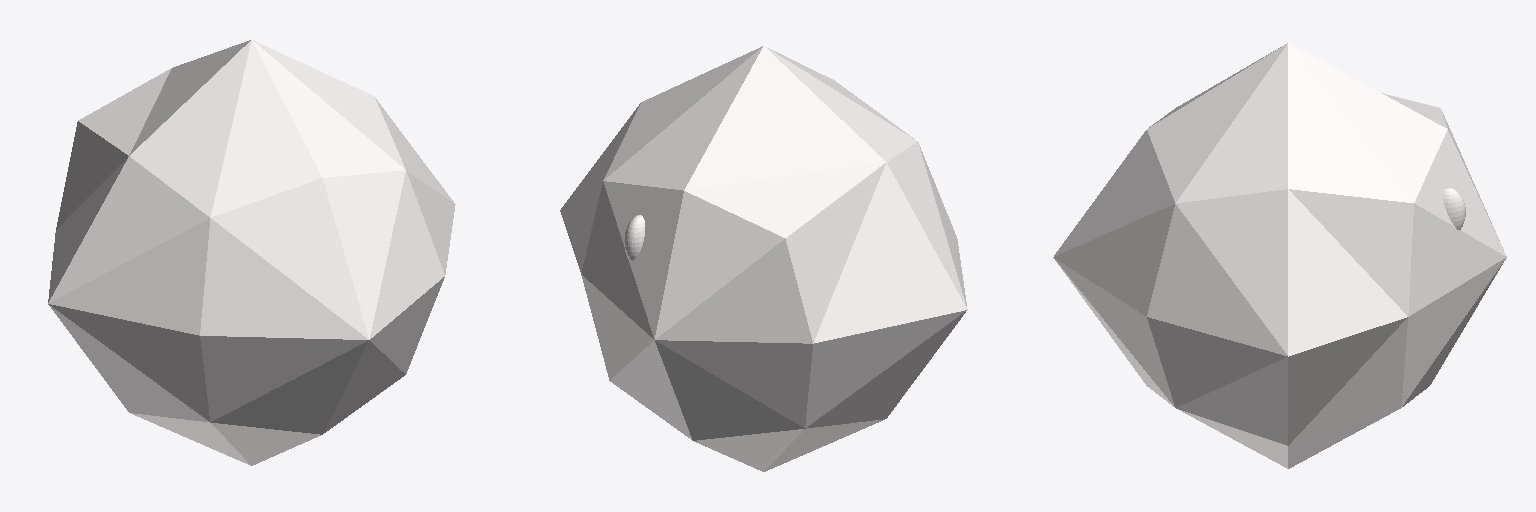
The picture shows the model from 3 angles: view 1: azimuth 30°, elevation 25°; view 2: azimuth 150°, elevation 25°; view 3: azimuth 270°, elevation 25°; orthographic projection.
Visible parts, largest first — view 1: 球.001; view 2: 球.001; view 3: 球.001.
Boxes of the visible parts, box(x1,y1,x2,y2) form: 球.001: box(48, 40, 455, 465); 球.001: box(560, 46, 967, 471); 球.001: box(1053, 43, 1506, 468).
Size of the model in its own units: 2.21 by 2.21 by 2.13.
1 materials, 1 textured.